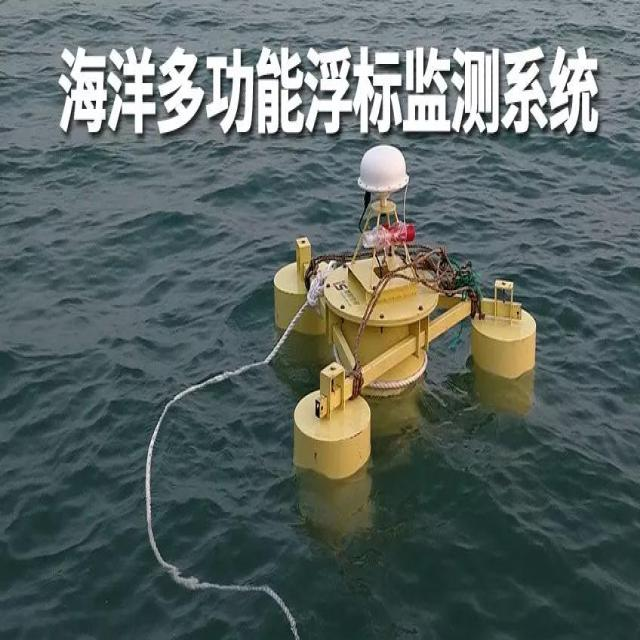buoy: (264, 139, 537, 478)
